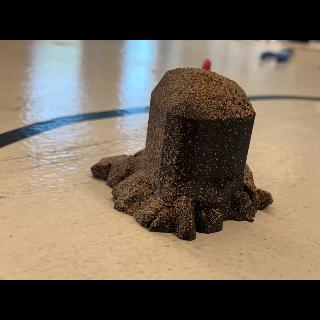teletubby: (202, 59, 211, 70)
